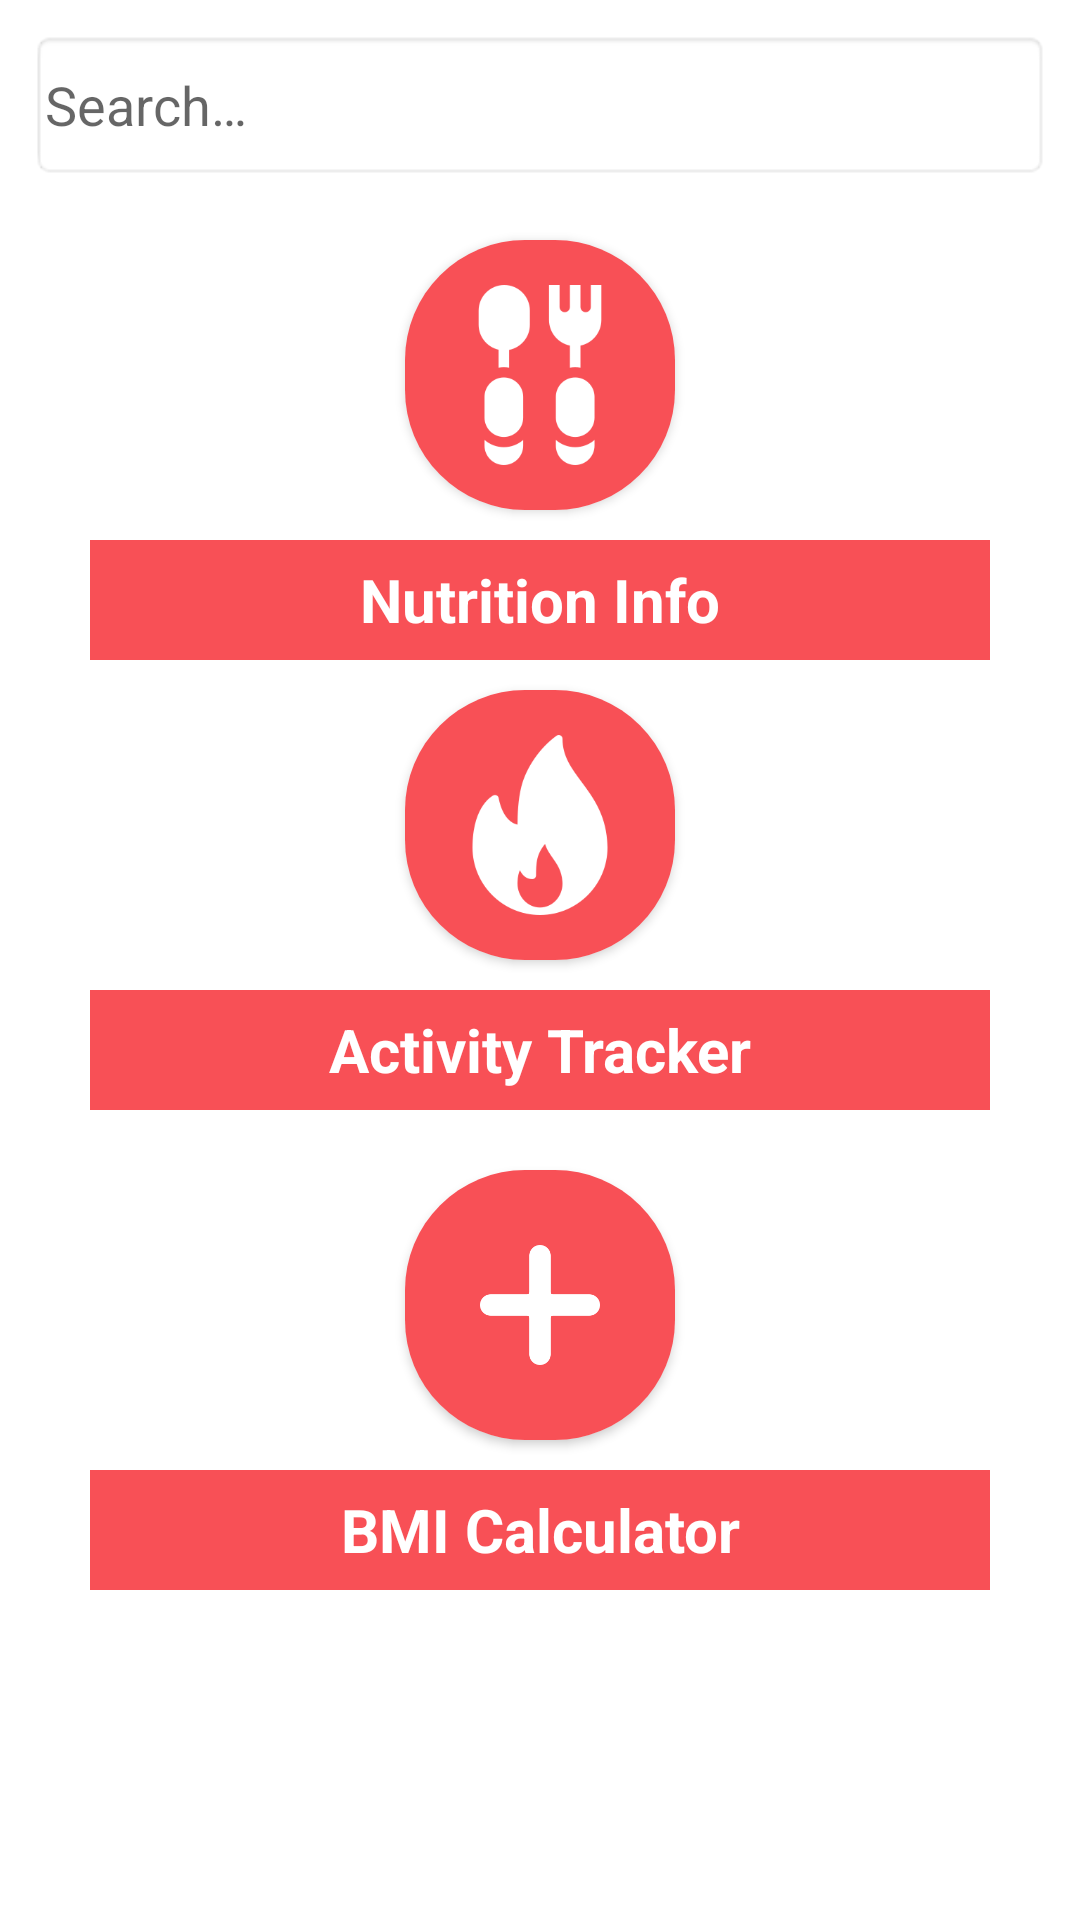

Point at icon controls on the screen. Image size 1080px×1920px, points as (x,y).
add: (540,1305)
fire: (540,825)
spoon: (540,375)
